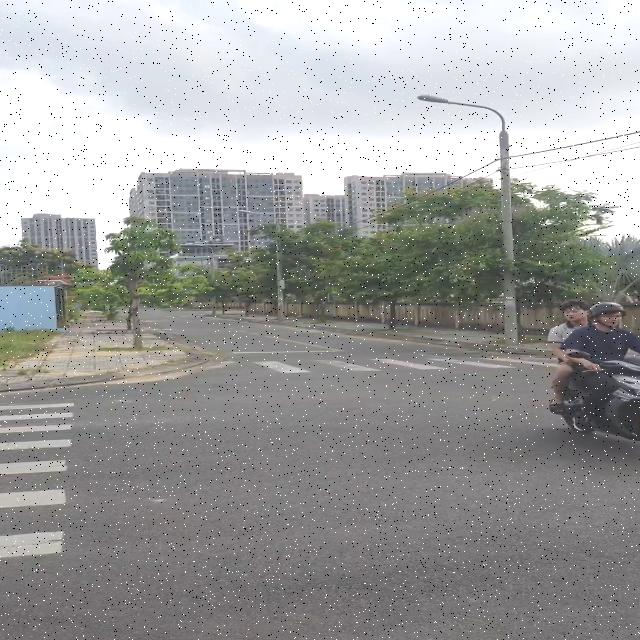helmet: (584, 302, 626, 338)
no_helmet: (554, 296, 588, 325)
